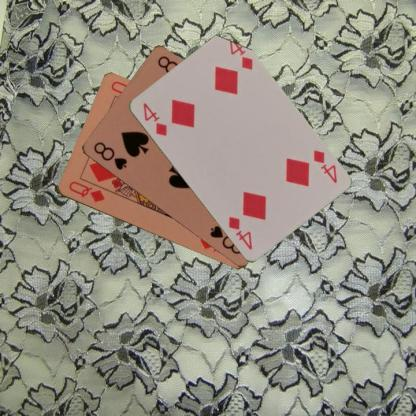4d: (140, 100, 168, 138), (310, 147, 338, 184)
8s: (90, 139, 128, 172)
Qd: (66, 178, 106, 204)
